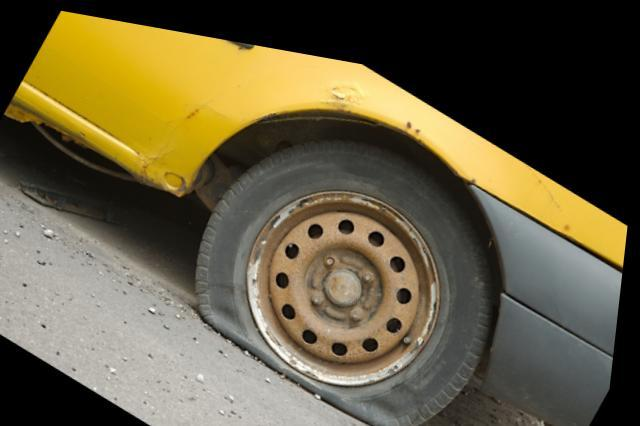tire flat: (202, 124, 509, 415)
